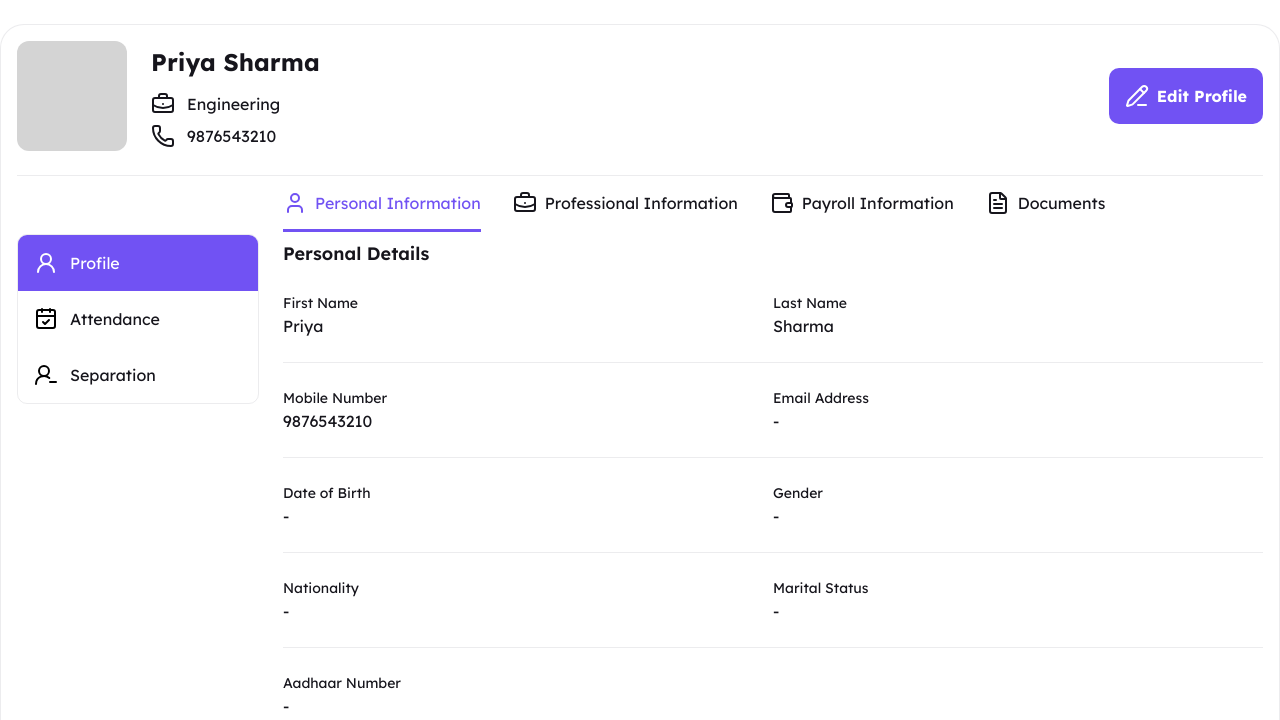
Test: EmployeeDetails — separation section › says so plainly when the employee has never had one filed
Click the button "Separation" at (138, 375), box [18,347,258,403]
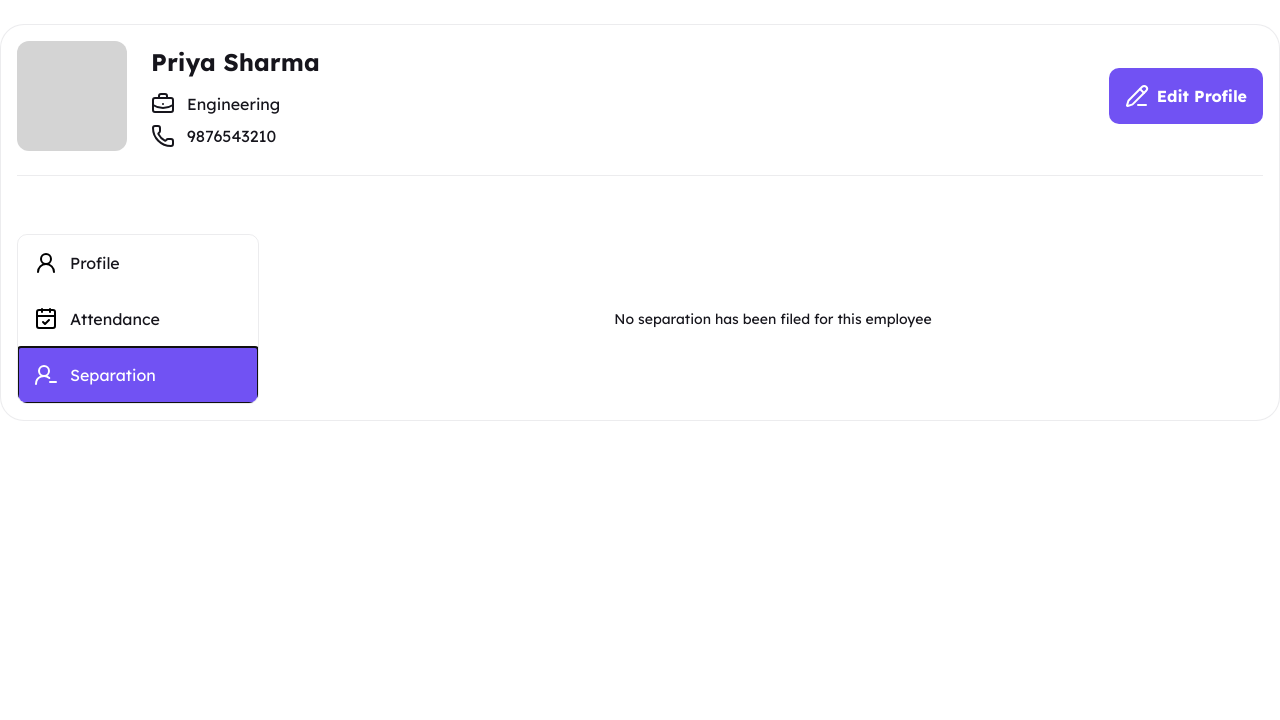
Result: the text "No separation has been filed for this employee" is shown at [614,308,932,330]
